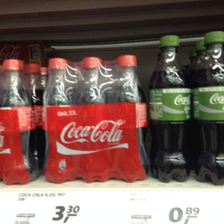soda: (146, 35, 192, 183), (108, 54, 150, 183), (191, 30, 224, 185), (40, 57, 79, 185), (74, 57, 111, 182), (1, 59, 36, 185)
